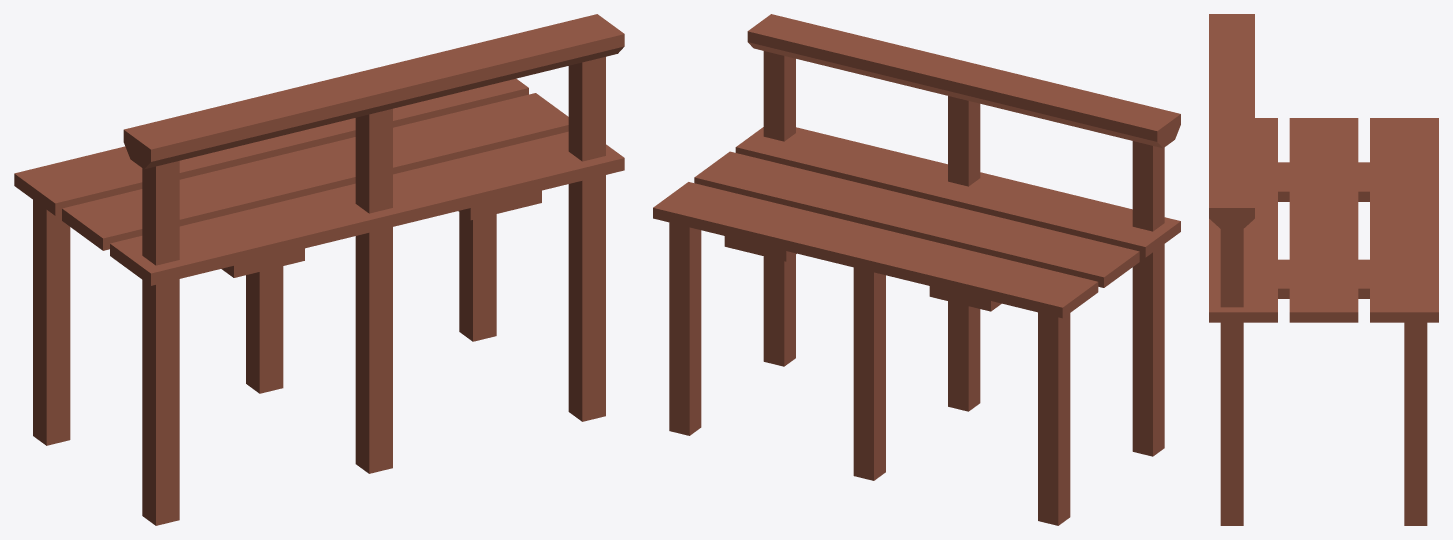
File: scaffold_small_medium_railing_long 1.fbx
3 views of the same model, side by side, from view 1: azimuth 30°, elevation 25°; view 2: azimuth 150°, elevation 25°; view 3: azimuth 270°, elevation 25° (orthographic). The views are drawn at different scales.
Visible parts, largest first — view 1: scaffold_small_medium_railing_long; view 2: scaffold_small_medium_railing_long; view 3: scaffold_small_medium_railing_long.
Part boxes in pixels (left/top/right/bottom): scaffold_small_medium_railing_long: left=14, top=14, right=624, bottom=525; scaffold_small_medium_railing_long: left=653, top=14, right=1180, bottom=525; scaffold_small_medium_railing_long: left=1209, top=14, right=1438, bottom=525.
Size of the model in its own units: 400 by 310 by 200.
